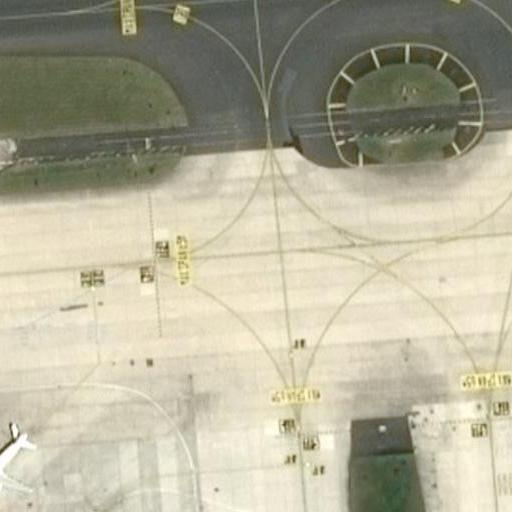Aircraft: (0, 419, 32, 499)
